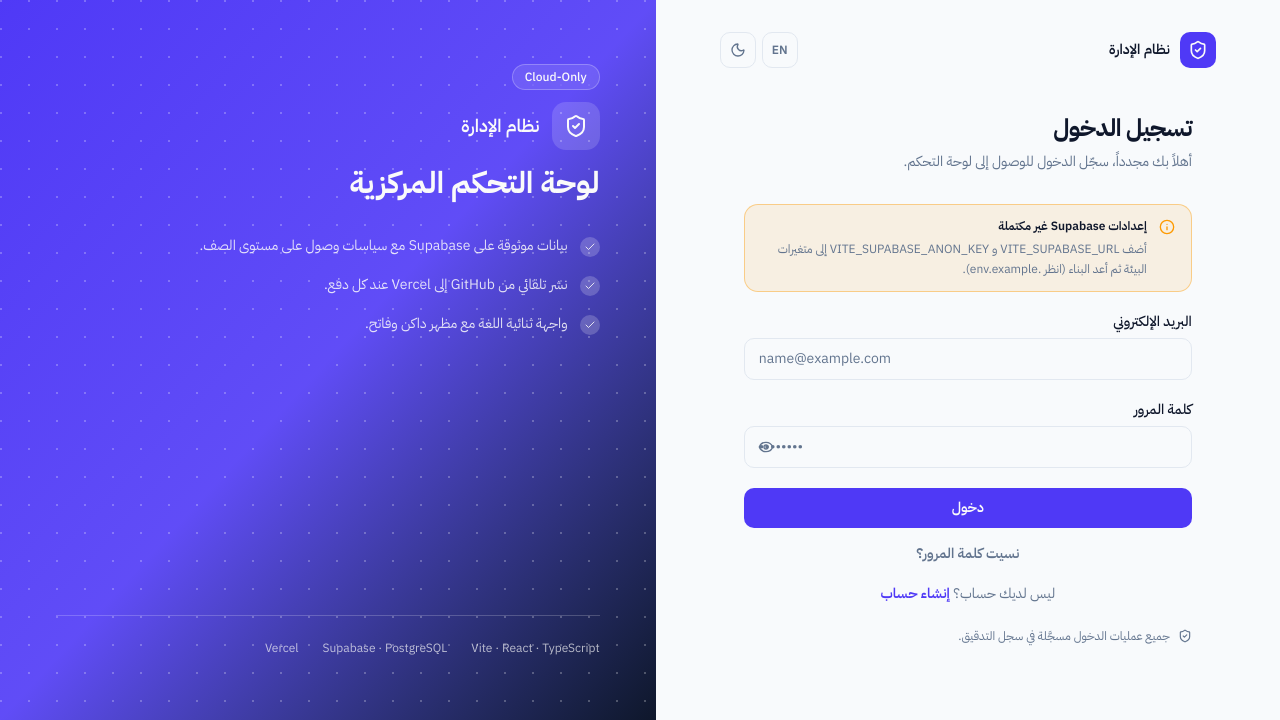
Test: Login (standalone screen) › validates required fields before touching the network
This screenshot has width=1280, height=720.
Click the button "دخول" at (968, 508), box [744, 488, 1192, 528]
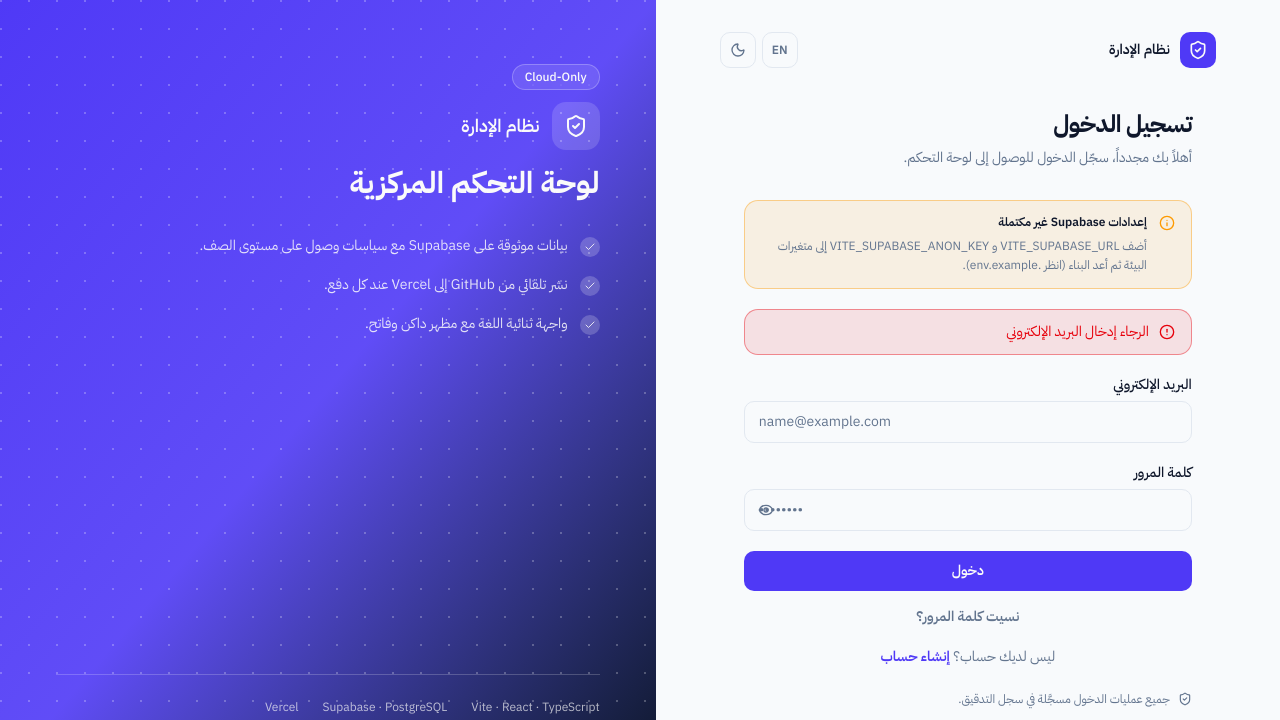
Check: the message "الرجاء إدخال البريد الإلكتروني" is shown, box [744, 308, 1192, 354]
Type "not-an-email" into the field labelled "البريد الإلكتروني" at (968, 422), box [744, 400, 1192, 442]
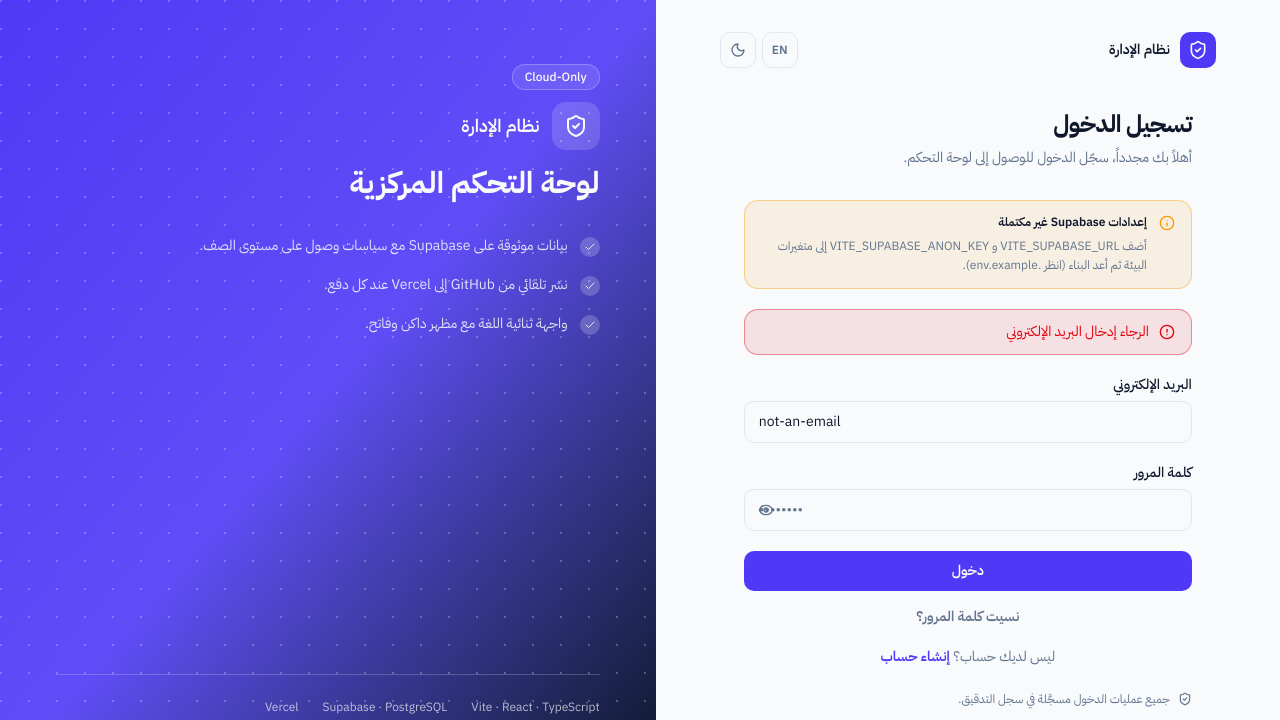
Click the button "دخول" at (968, 570), box [744, 550, 1192, 590]
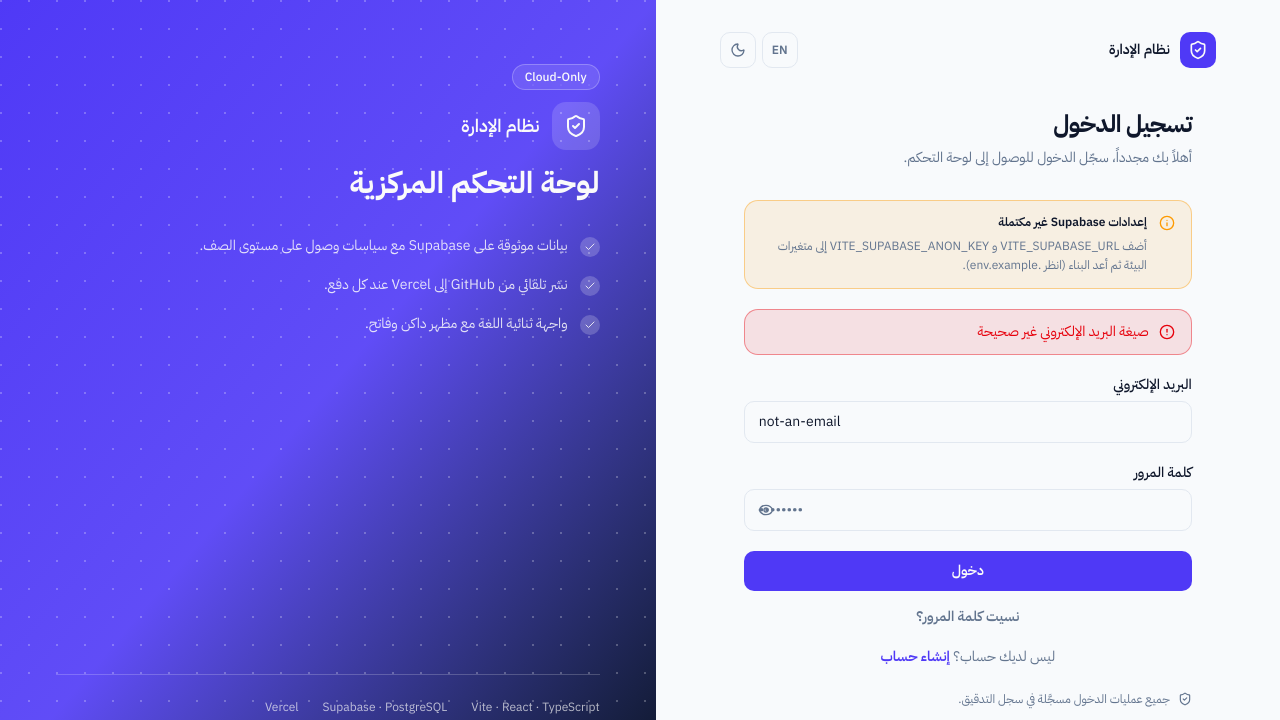
Check: the message "صيغة البريد الإلكتروني غير صحيحة" is shown, box [744, 308, 1192, 354]
Replace the text in the field labelled "البريد الإلكتروني" with "admin@example.com" at (968, 422), box [744, 400, 1192, 442]
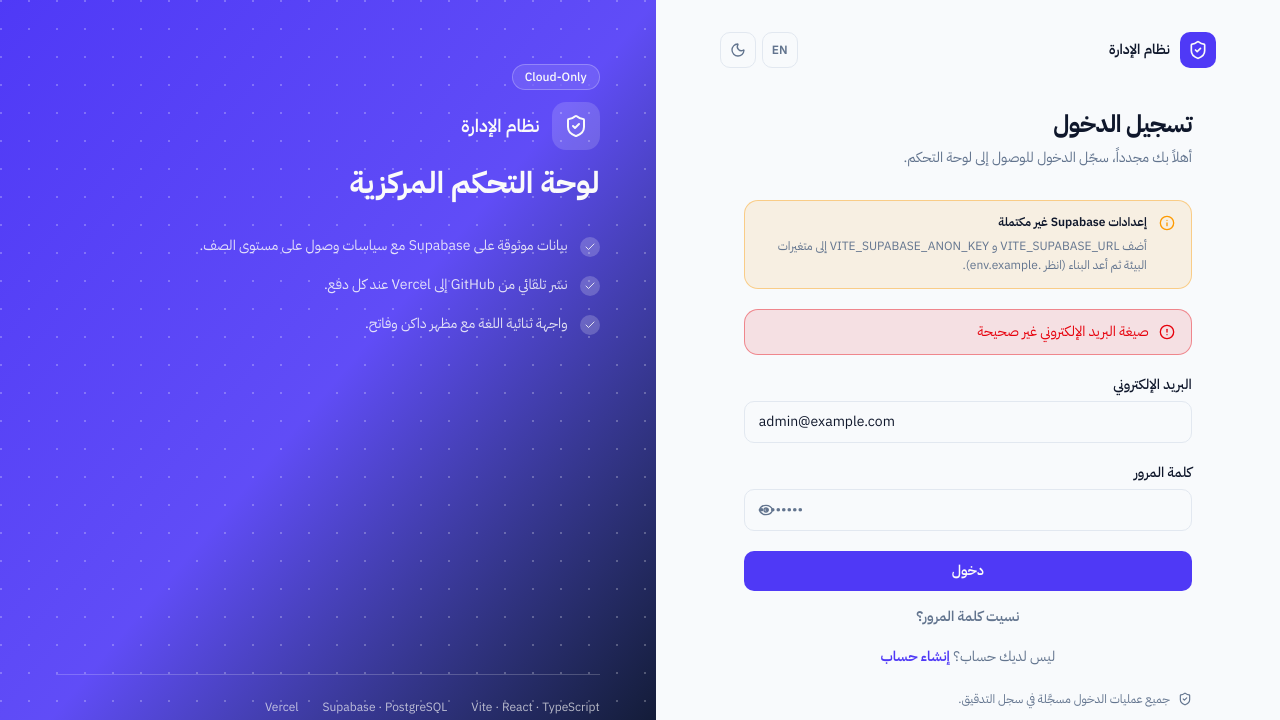
Click the button "دخول" at (968, 570), box [744, 550, 1192, 590]
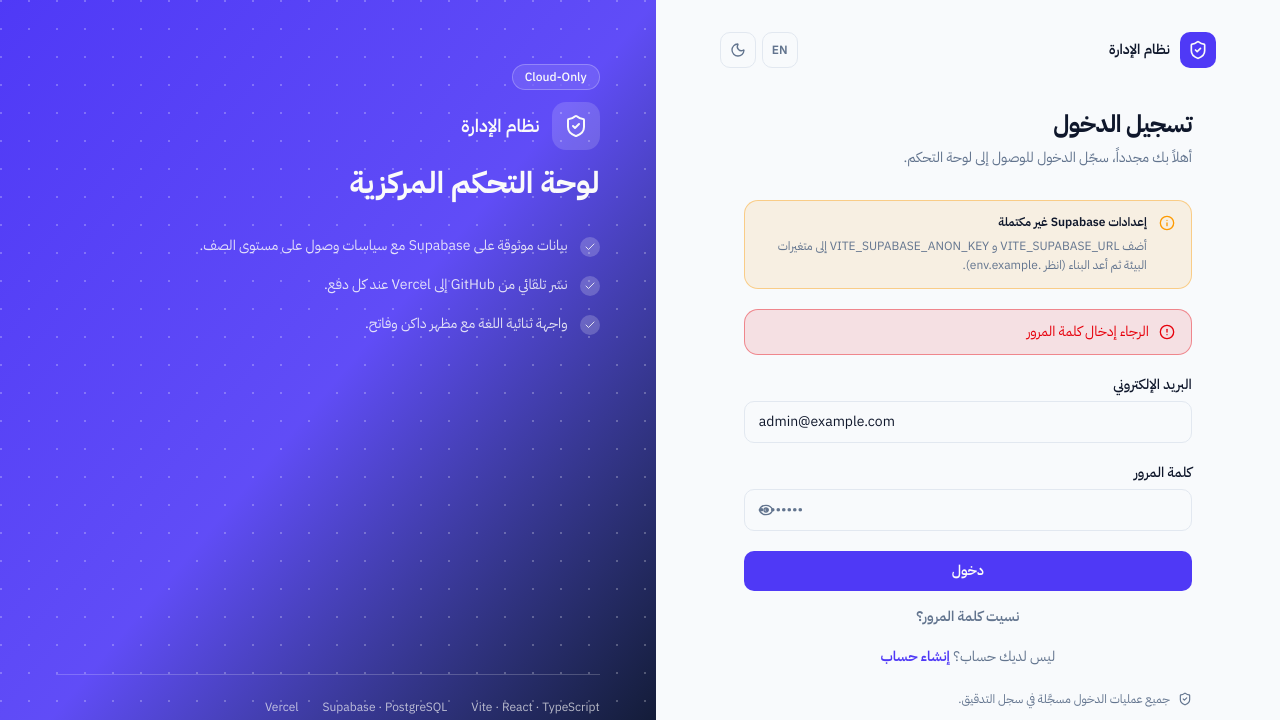
Check: the message "الرجاء إدخال كلمة المرور" is shown, box [744, 308, 1192, 354]
